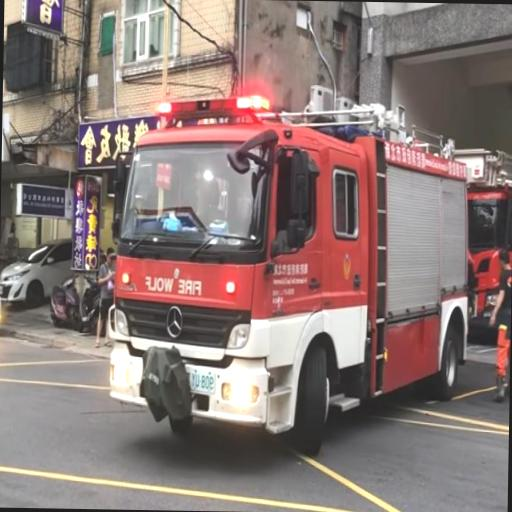fire truck: (110, 97, 473, 454)
